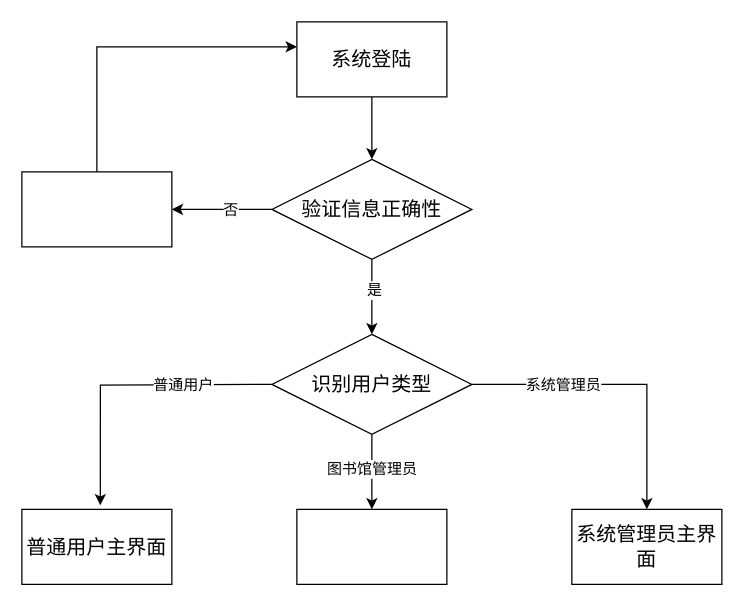
This 744x606 diagram has some shape labels left out. Each missing label, with the centre of its shape:
图书馆管理员主界面: point (371, 546)
返回错误信息: point (96, 209)
